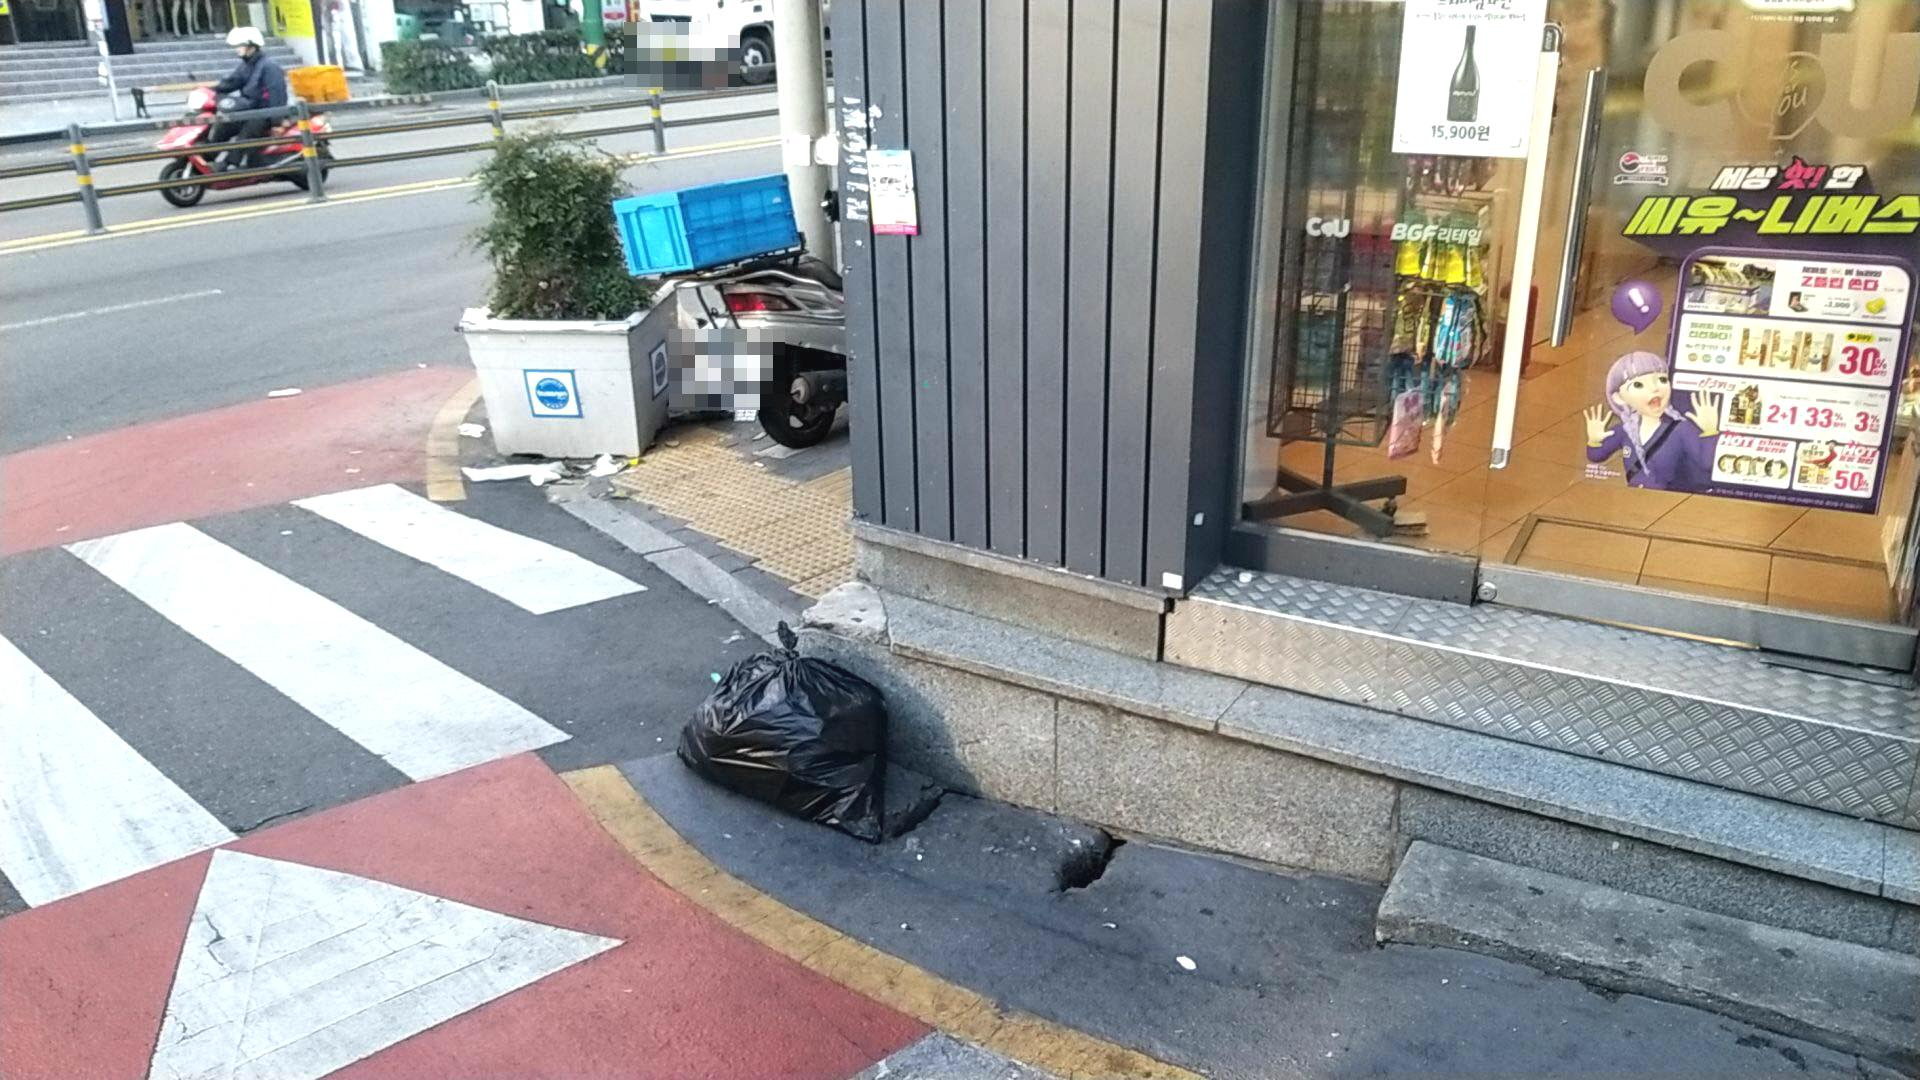black_bag: (673, 618, 895, 848)
